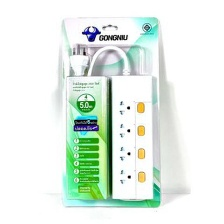book: (57, 12, 162, 211)
three_eye_plug: (107, 72, 156, 203)
